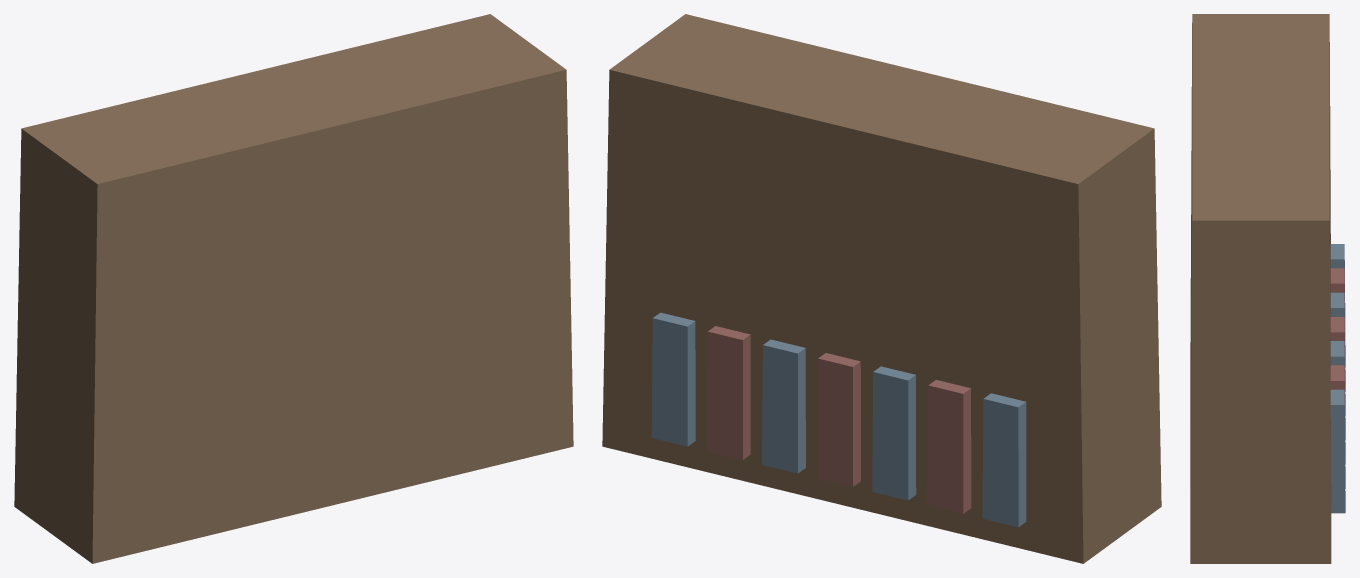
The model's file is bookshelf_low.glb.
The picture shows the model from 3 angles, left to right: view 1: azimuth 30°, elevation 25°; view 2: azimuth 150°, elevation 25°; view 3: azimuth 270°, elevation 25°; orthographic projection. The views are drawn at different scales.
Visible parts, largest first — view 1: part_0; view 2: part_0, part_3, part_9, part_4, part_8, part_7, part_6, part_5; view 3: part_0, part_9, part_8, part_3, part_4, part_5, part_7, part_6.
Part boxes in pixels (<box>): part_0: <box>14,14,573,563</box>; part_0: <box>602,14,1161,563</box>; part_3: <box>982,393,1026,527</box>; part_9: <box>651,312,695,446</box>; part_4: <box>927,380,971,513</box>; part_8: <box>707,326,750,459</box>; part_7: <box>762,339,805,473</box>; part_6: <box>817,353,860,486</box>; part_5: <box>872,366,916,500</box>; part_0: <box>1190,14,1331,563</box>; part_9: <box>1330,389,1345,513</box>; part_8: <box>1330,365,1345,488</box>; part_3: <box>1330,244,1345,367</box>; part_4: <box>1330,268,1345,391</box>; part_5: <box>1330,292,1345,415</box>; part_7: <box>1330,341,1345,464</box>; part_6: <box>1330,317,1345,439</box>.
Bounding box in the file's own units: 1.6 × 1.2 × 0.495.
